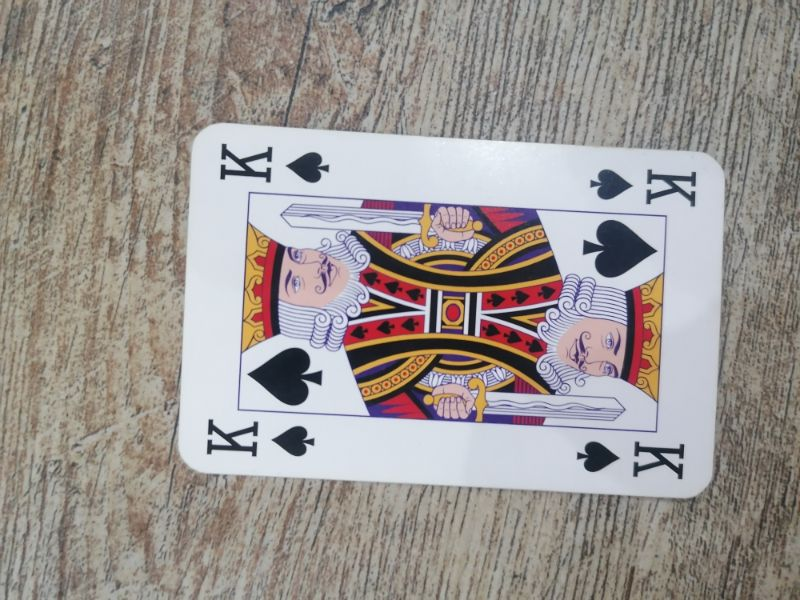Ks: (214, 137, 335, 193), (199, 413, 321, 466), (585, 160, 704, 211), (572, 434, 691, 485)
